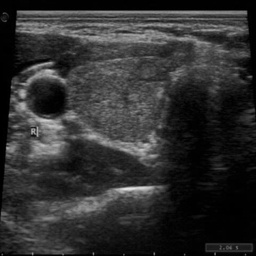mass: (69, 59, 167, 139)
